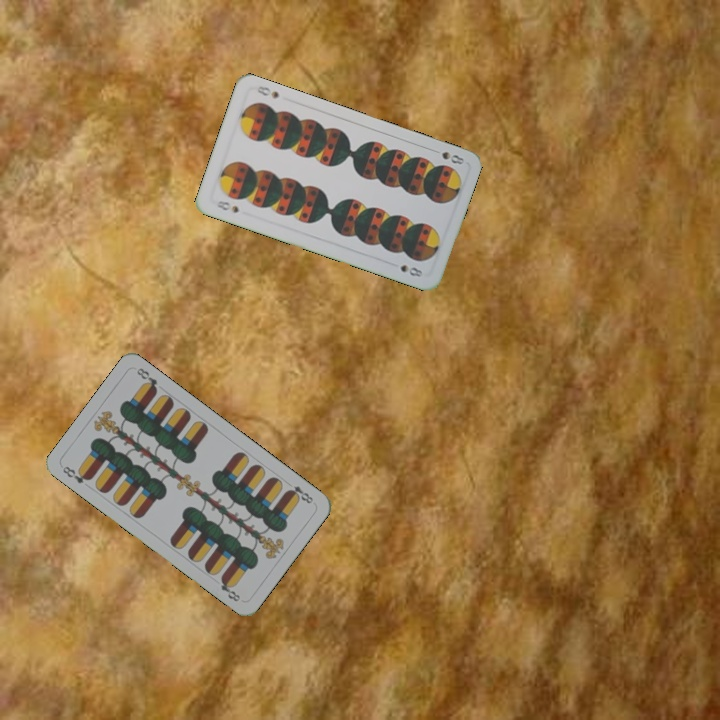E8: (58, 462, 94, 486), (283, 482, 316, 506)
S8: (212, 196, 241, 216), (438, 147, 466, 167)
